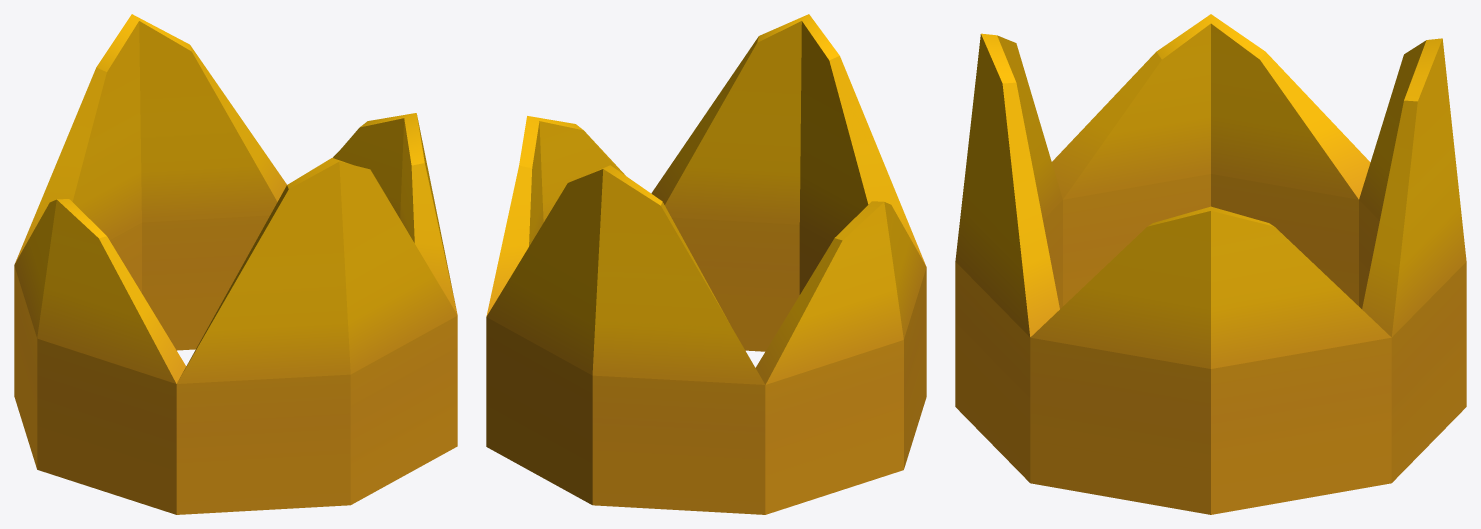
Rendered from Crown.fbx.
3 renders of one model, left to right at view 1: azimuth 30°, elevation 25°; view 2: azimuth 150°, elevation 25°; view 3: azimuth 270°, elevation 25°, orthographic. The views are drawn at different scales.
Visible parts, largest first — view 1: Crown; view 2: Crown; view 3: Crown.
Boxes of the visible parts, x1,y1,x2,y2 form: Crown: [14, 14, 457, 514]; Crown: [486, 14, 926, 514]; Crown: [955, 14, 1466, 514].
Size of the model in its own units: 63.12 by 50.87 by 63.12.
1 material, 1 textured.
